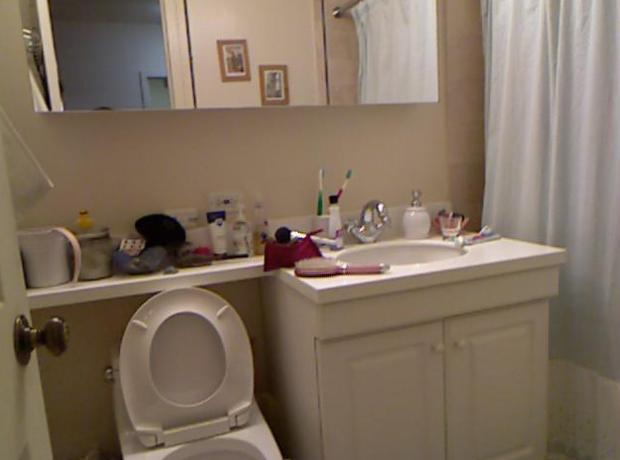Lavamanos: (309, 196, 470, 279)
Sanitario: (99, 282, 282, 458)
